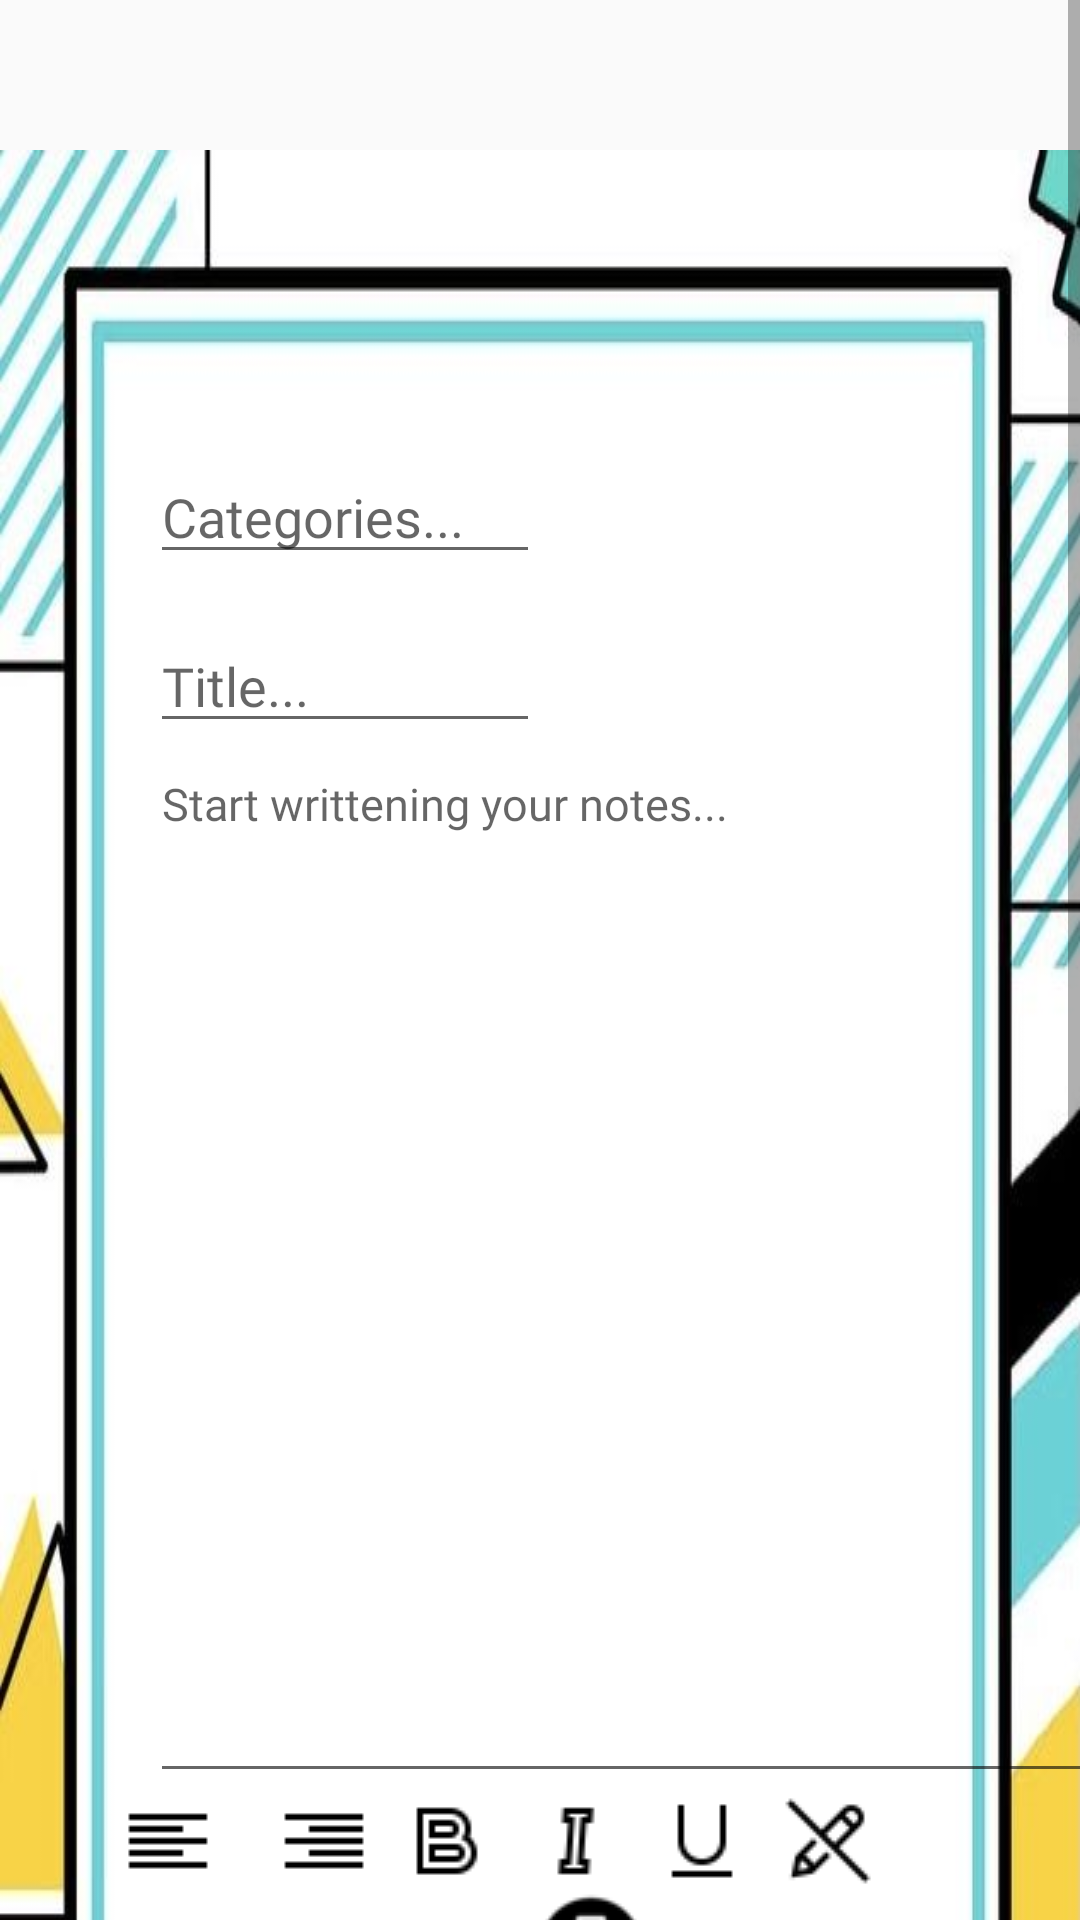

Point at icon controls on the screen. Image size 1080*1920, points as point (x, y).
italic: point (576, 1841)
left: point (168, 1841)
noedit: point (828, 1841)
right: point (324, 1841)
underline: point (702, 1841)
